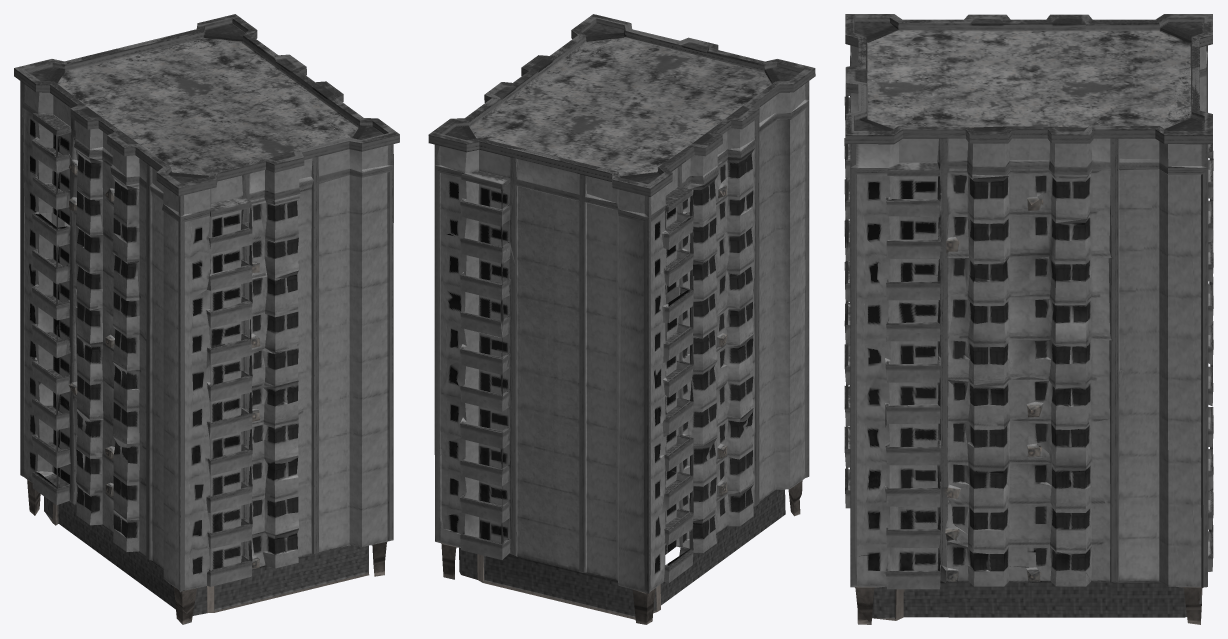
Rendered from SM_Dist_Build2_1.fbx.
The picture shows the model from 3 angles, left to right: view 1: azimuth 30°, elevation 25°; view 2: azimuth 150°, elevation 25°; view 3: azimuth 270°, elevation 25°; orthographic projection. The views are drawn at different scales.
Visible parts, largest first — view 1: SM_Dist_Build2_1_LOD0; view 2: SM_Dist_Build2_1_LOD0; view 3: SM_Dist_Build2_1_LOD0.
Part boxes in pixels (x1,y1,x2,y2): SM_Dist_Build2_1_LOD0: (14, 14, 399, 624); SM_Dist_Build2_1_LOD0: (428, 14, 815, 624); SM_Dist_Build2_1_LOD0: (844, 14, 1213, 624).
Size of the model in its own units: 3736 by 4799 by 7103.
Materials: 1 (1 with a texture image).
